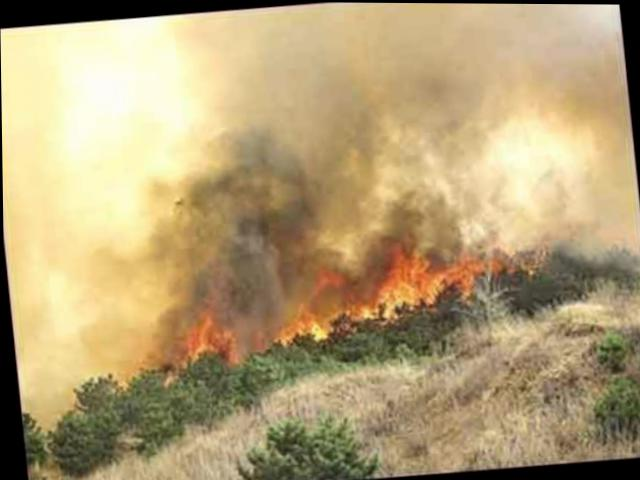fire: (270, 230, 545, 341), (175, 311, 240, 372)
